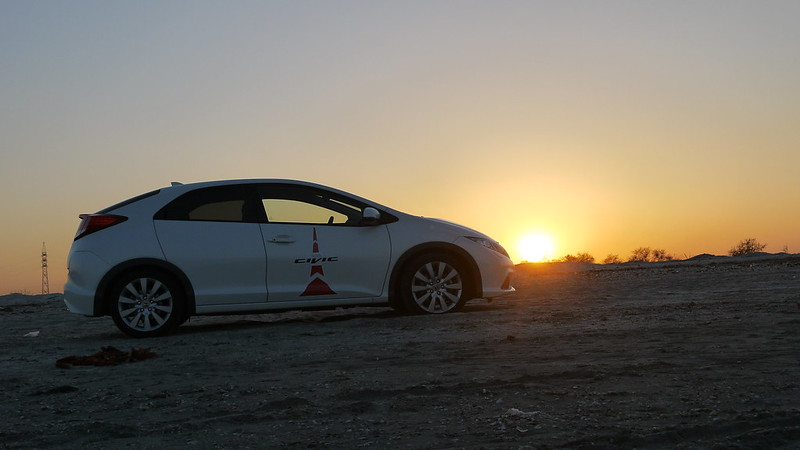car: (57, 175, 524, 338)
